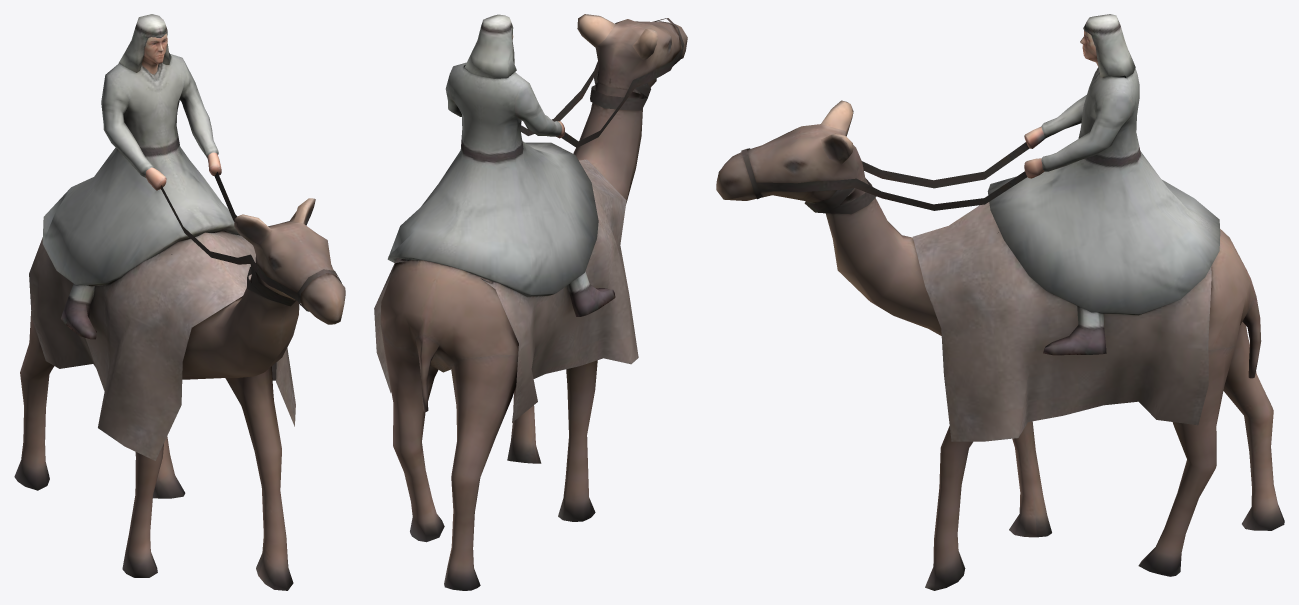
Rendered from Caravan.glb.
3 renders of one model, left to right at view 1: azimuth 30°, elevation 25°; view 2: azimuth 150°, elevation 25°; view 3: azimuth 270°, elevation 25°, orthographic. The views are drawn at different scales.
Parts seen in each view (by area): view 1: caravan; view 2: caravan; view 3: caravan.
Boxes of the visible parts, x1,y1,x2,y2 form: caravan: (14, 14, 345, 590); caravan: (374, 14, 687, 590); caravan: (716, 14, 1284, 590).
Size of the model in its own units: 0.564 by 1.46 by 1.38.
Materials: 2 (2 with a texture image).
